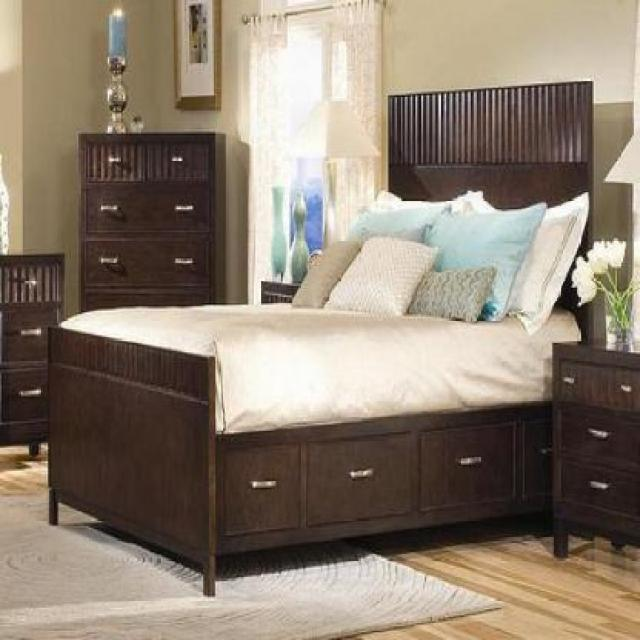Bed: (37, 72, 608, 591)
